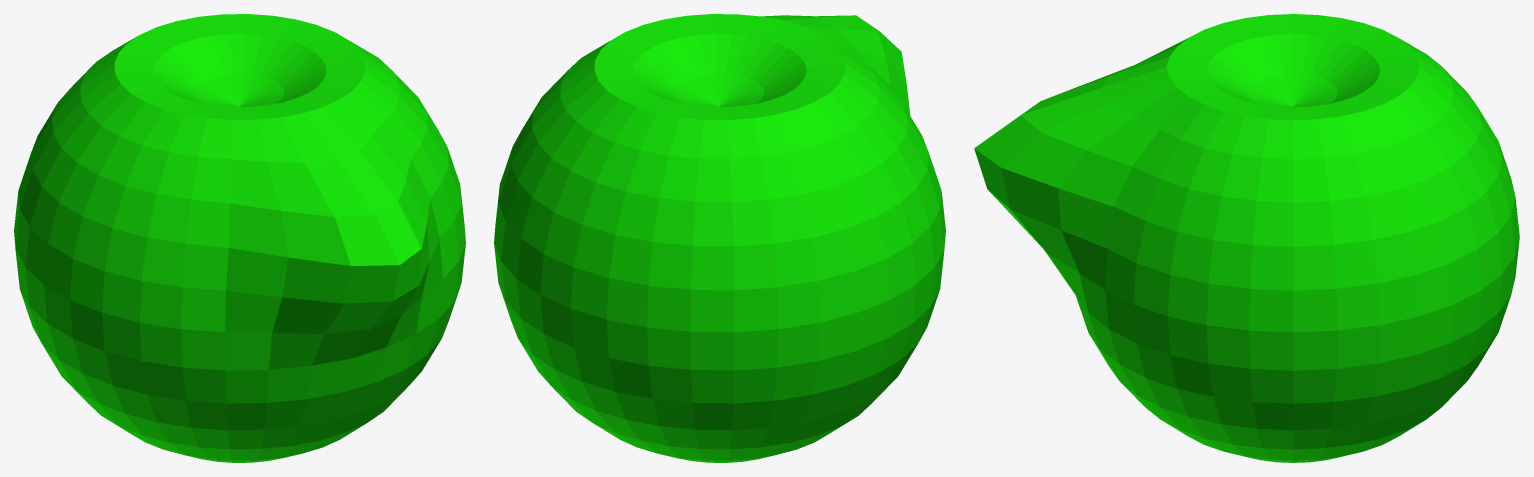
3 renders of one model, left to right at view 1: azimuth 30°, elevation 25°; view 2: azimuth 150°, elevation 25°; view 3: azimuth 270°, elevation 25°, orthographic.
Visible parts, largest first — view 1: Sphere; view 2: Sphere; view 3: Sphere.
Boxes of the visible parts, x1,y1,x2,y2 form: Sphere: (14,14,465,462); Sphere: (494,14,945,462); Sphere: (974,14,1519,462).
Bounding box in the file's own units: 2 × 1.83 × 2.41.
